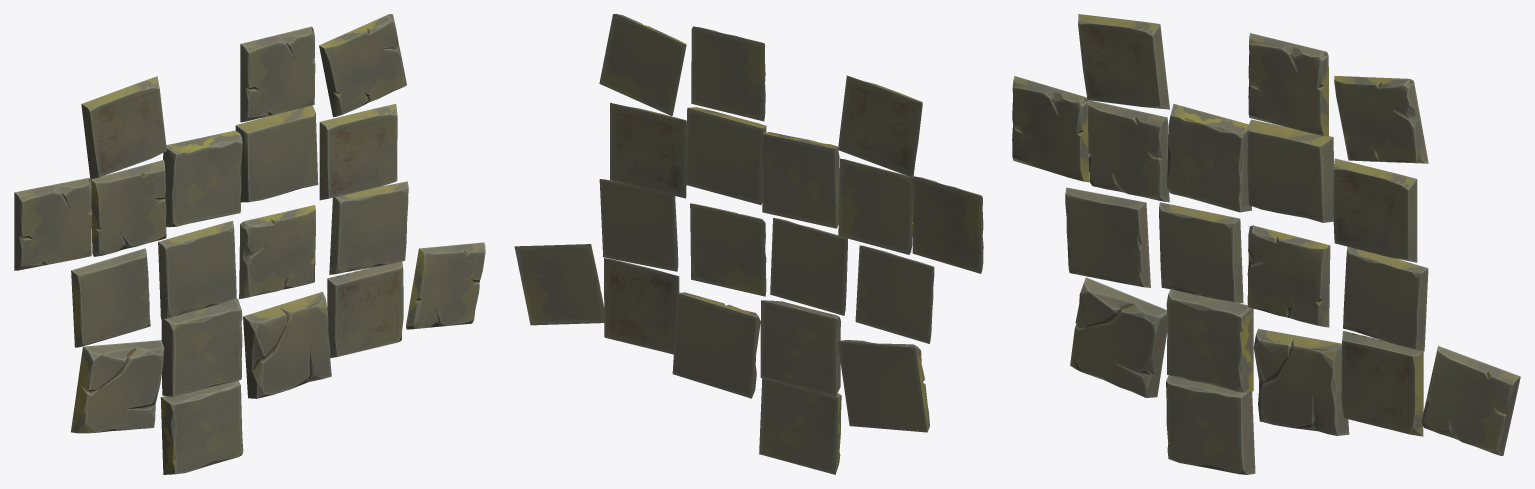
File: BossTiles.fbx
3 views of the same model, side by side, from view 1: azimuth 30°, elevation 25°; view 2: azimuth 150°, elevation 25°; view 3: azimuth 330°, elevation 25° (orthographic). The views are drawn at different scales.
Parts seen in each view (by area): view 1: raisedSlab3, raisedSlab3__1_, raisedSlab4__1_, raisedSlab4, raisedSlab4__2_, raisedSlab6, raisedSlab6__1_, raisedSlab5, raisedSlab1__5_, raisedSlab6__2_, raisedSlab2__1_, raisedSlab2 (+6 smaller); view 2: raisedSlab3, raisedSlab3__1_, raisedSlab4__1_, raisedSlab4, raisedSlab4__2_, raisedSlab5, raisedSlab1__3_, raisedSlab6__1_, raisedSlab6, raisedSlab2__1_, raisedSlab2, raisedSlab2__2_ (+6 smaller); view 3: raisedSlab3__1_, raisedSlab3, raisedSlab4__1_, raisedSlab5, raisedSlab4__2_, raisedSlab1__3_, raisedSlab4, raisedSlab6, raisedSlab6__1_, raisedSlab6__2_, raisedSlab2__1_, raisedSlab2 (+6 smaller).
Boxes of the visible parts, <box> form: raisedSlab3: <box>243,291,331,398</box>; raisedSlab3__1_: <box>71,340,164,433</box>; raisedSlab4__1_: <box>161,298,242,396</box>; raisedSlab4: <box>163,130,242,227</box>; raisedSlab4__2_: <box>160,381,243,474</box>; raisedSlab6: <box>319,104,397,200</box>; raisedSlab6__1_: <box>81,76,166,179</box>; raisedSlab5: <box>235,105,318,202</box>; raisedSlab1__5_: <box>14,177,91,270</box>; raisedSlab6__2_: <box>327,261,403,357</box>; raisedSlab2__1_: <box>71,248,150,347</box>; raisedSlab2: <box>158,220,236,319</box>; raisedSlab3: <box>672,292,760,398</box>; raisedSlab3__1_: <box>837,340,929,432</box>; raisedSlab4__1_: <box>760,300,840,396</box>; raisedSlab4: <box>761,132,839,228</box>; raisedSlab4__2_: <box>759,377,841,474</box>; raisedSlab5: <box>685,107,766,204</box>; raisedSlab1__3_: <box>514,244,604,325</box>; raisedSlab6__1_: <box>838,75,922,177</box>; raisedSlab6: <box>610,103,686,198</box>; raisedSlab2__1_: <box>855,245,934,343</box>; raisedSlab2: <box>770,218,847,315</box>; raisedSlab2__2_: <box>599,179,678,271</box>; raisedSlab3__1_: <box>1070,277,1167,397</box>; raisedSlab3: <box>1253,328,1349,435</box>; raisedSlab4__1_: <box>1166,289,1253,392</box>; raisedSlab5: <box>1247,119,1333,222</box>; raisedSlab4__2_: <box>1166,375,1255,474</box>; raisedSlab1__3_: <box>1421,346,1520,455</box>; raisedSlab4: <box>1167,103,1251,212</box>; raisedSlab6: <box>1333,158,1417,262</box>; raisedSlab6__1_: <box>1078,14,1169,109</box>; raisedSlab6__2_: <box>1341,331,1423,436</box>; raisedSlab2__1_: <box>1065,187,1150,287</box>; raisedSlab2: <box>1159,202,1243,303</box>.
Bounding box in the file's own units: 1575 × 1328 × 64.98.
